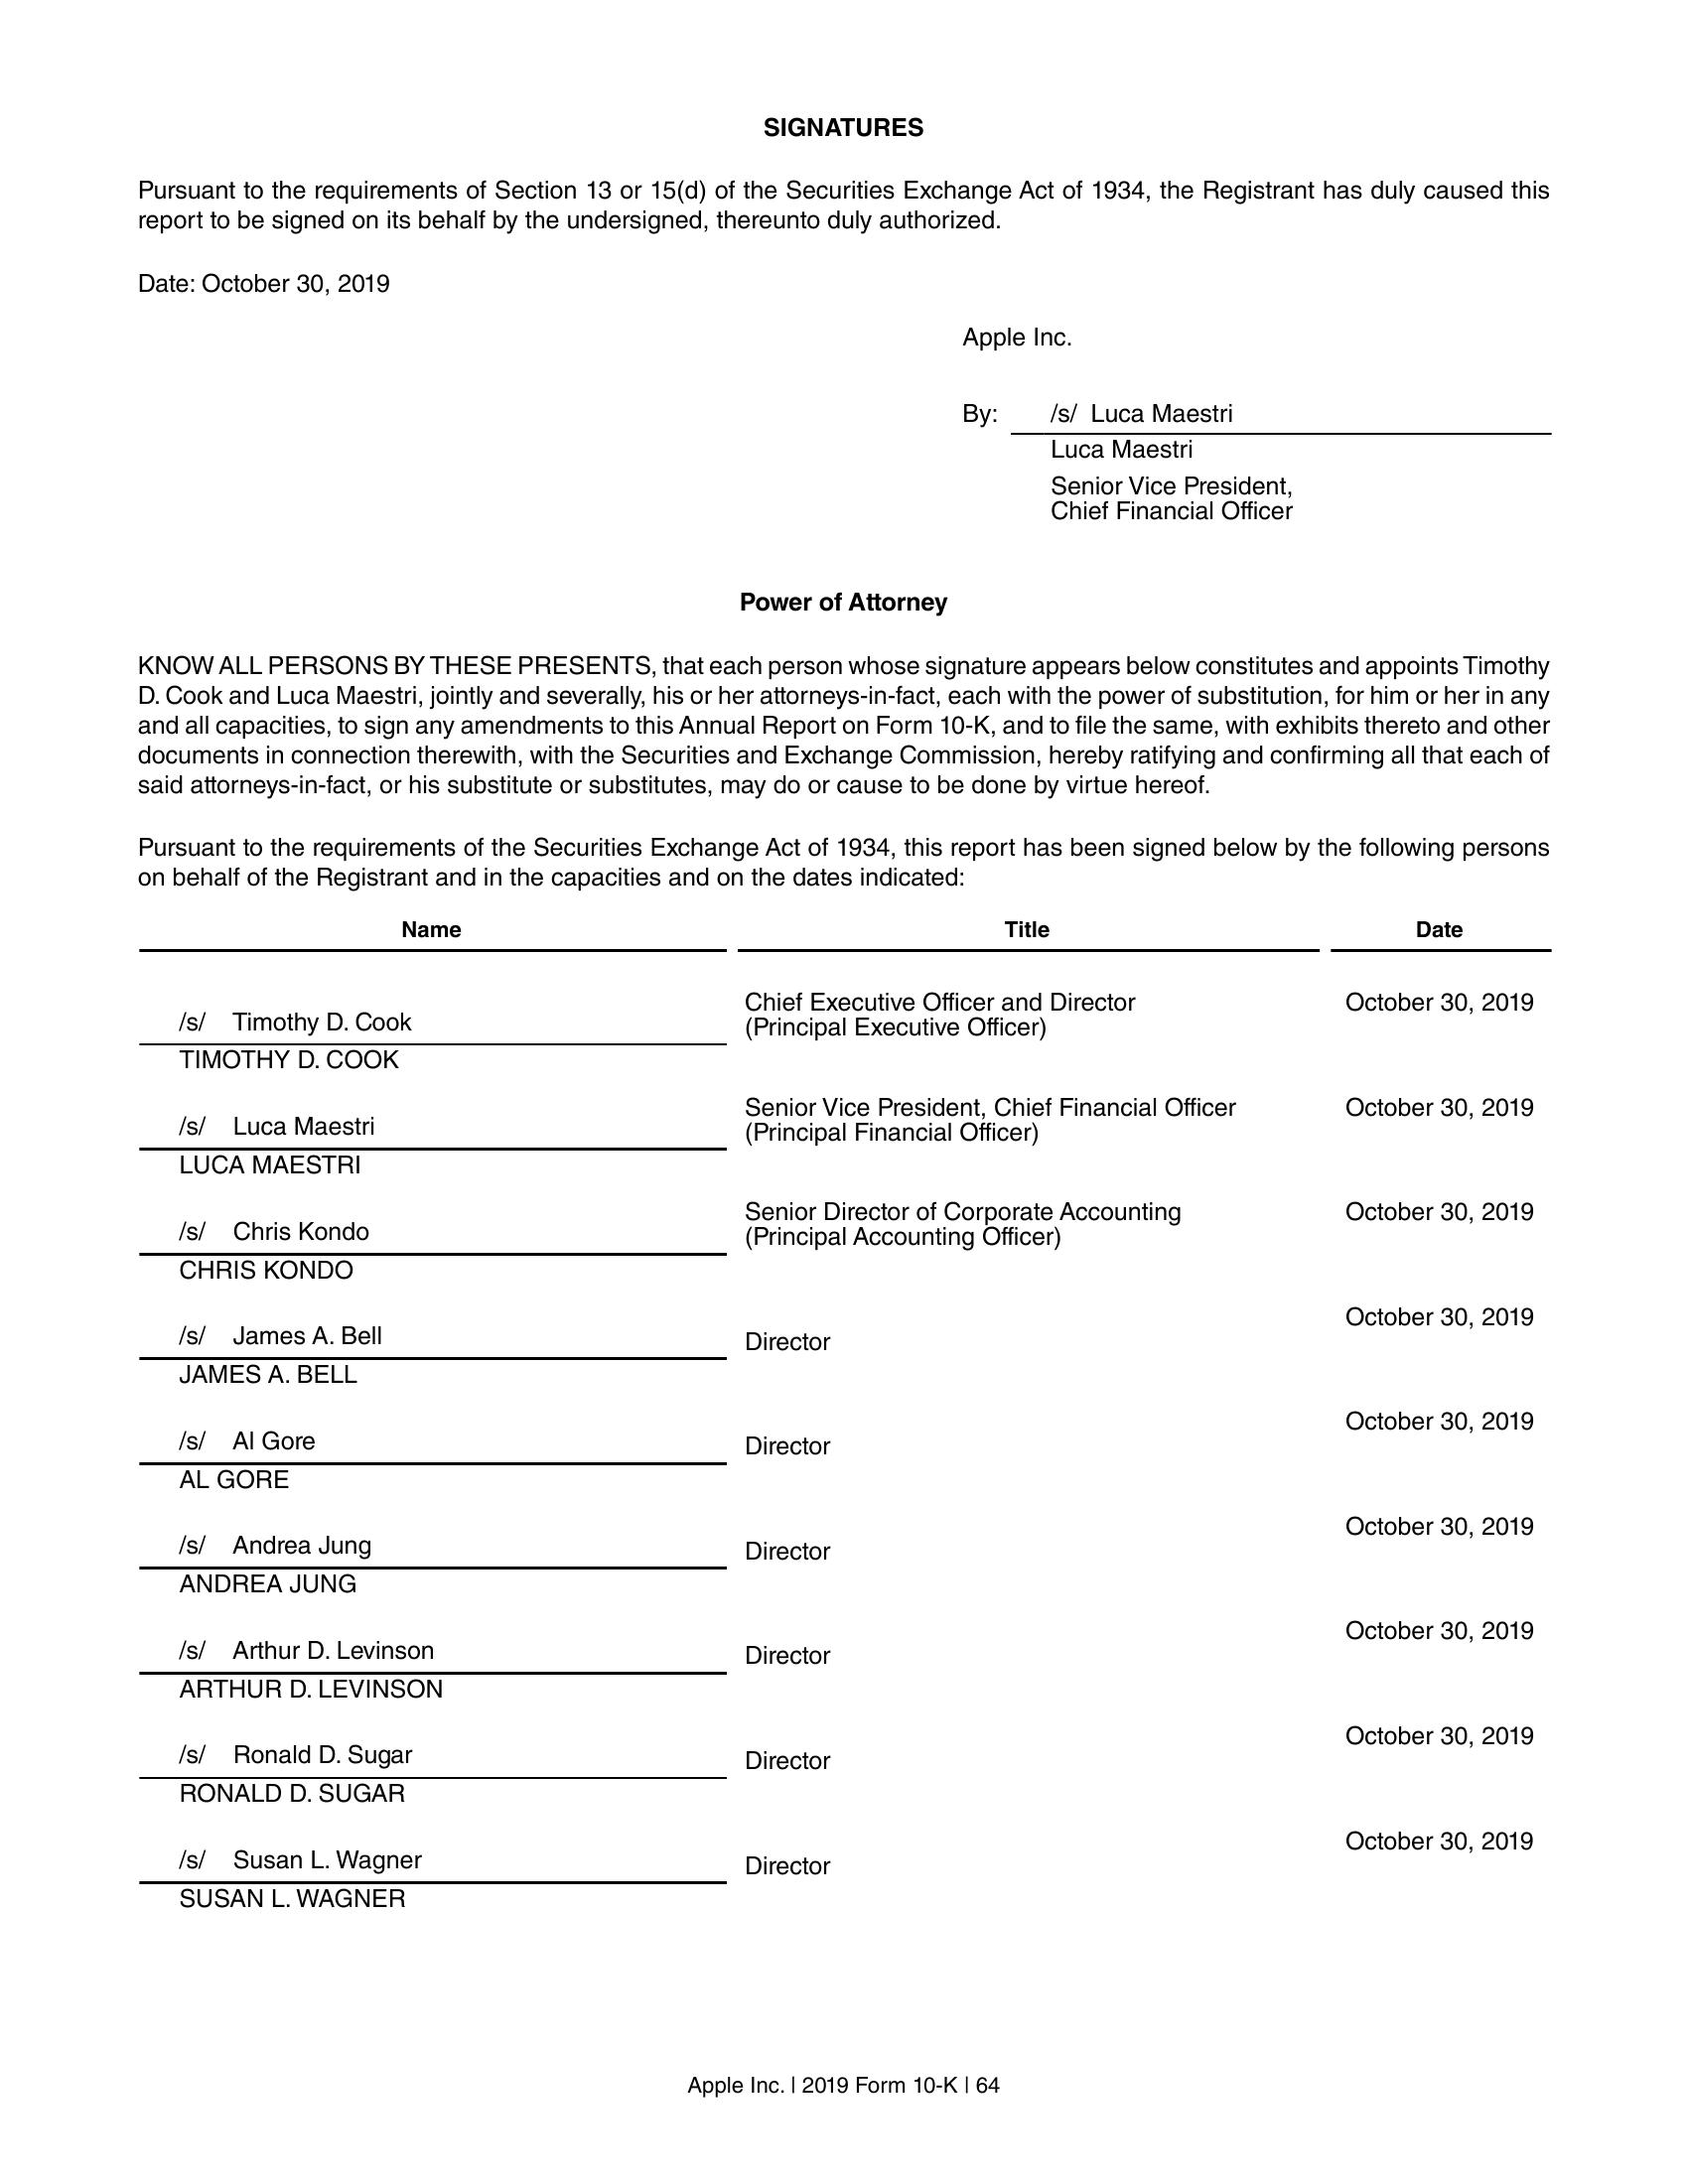table: (126, 913, 1560, 1913)
